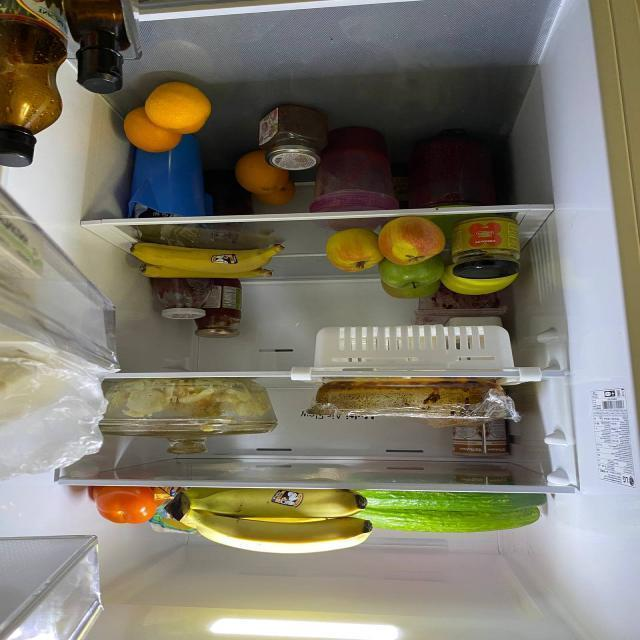apple: (376, 213, 444, 264), (322, 229, 380, 271), (376, 257, 444, 286), (379, 282, 442, 299)
banana: (170, 486, 378, 558), (130, 242, 282, 272), (130, 265, 274, 278)
cucumber: (358, 507, 554, 530), (358, 492, 562, 509)
orange: (145, 84, 211, 135), (122, 110, 182, 152), (232, 153, 286, 194), (258, 186, 298, 204)
tomato: (94, 488, 158, 521)
